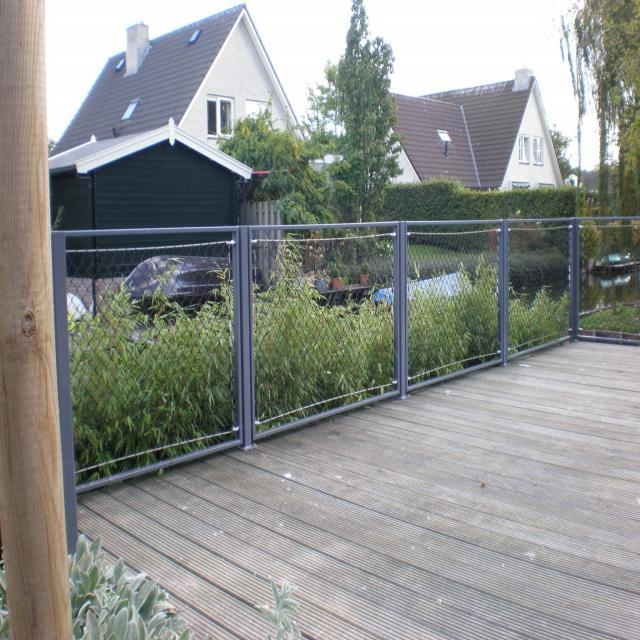fence line: (78, 215, 412, 455), (363, 196, 640, 395)
